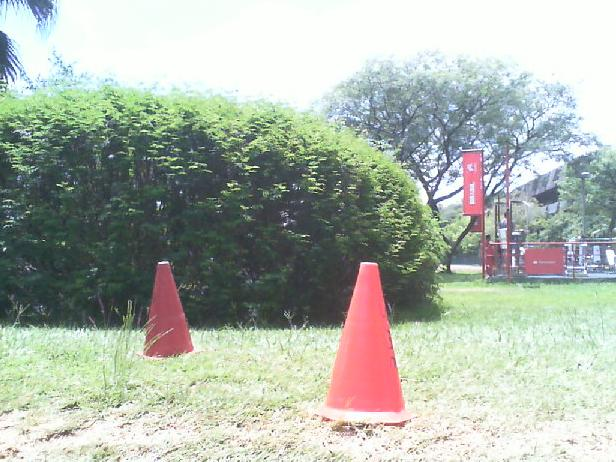0 cone: (315, 263, 417, 423), (137, 261, 203, 359)
